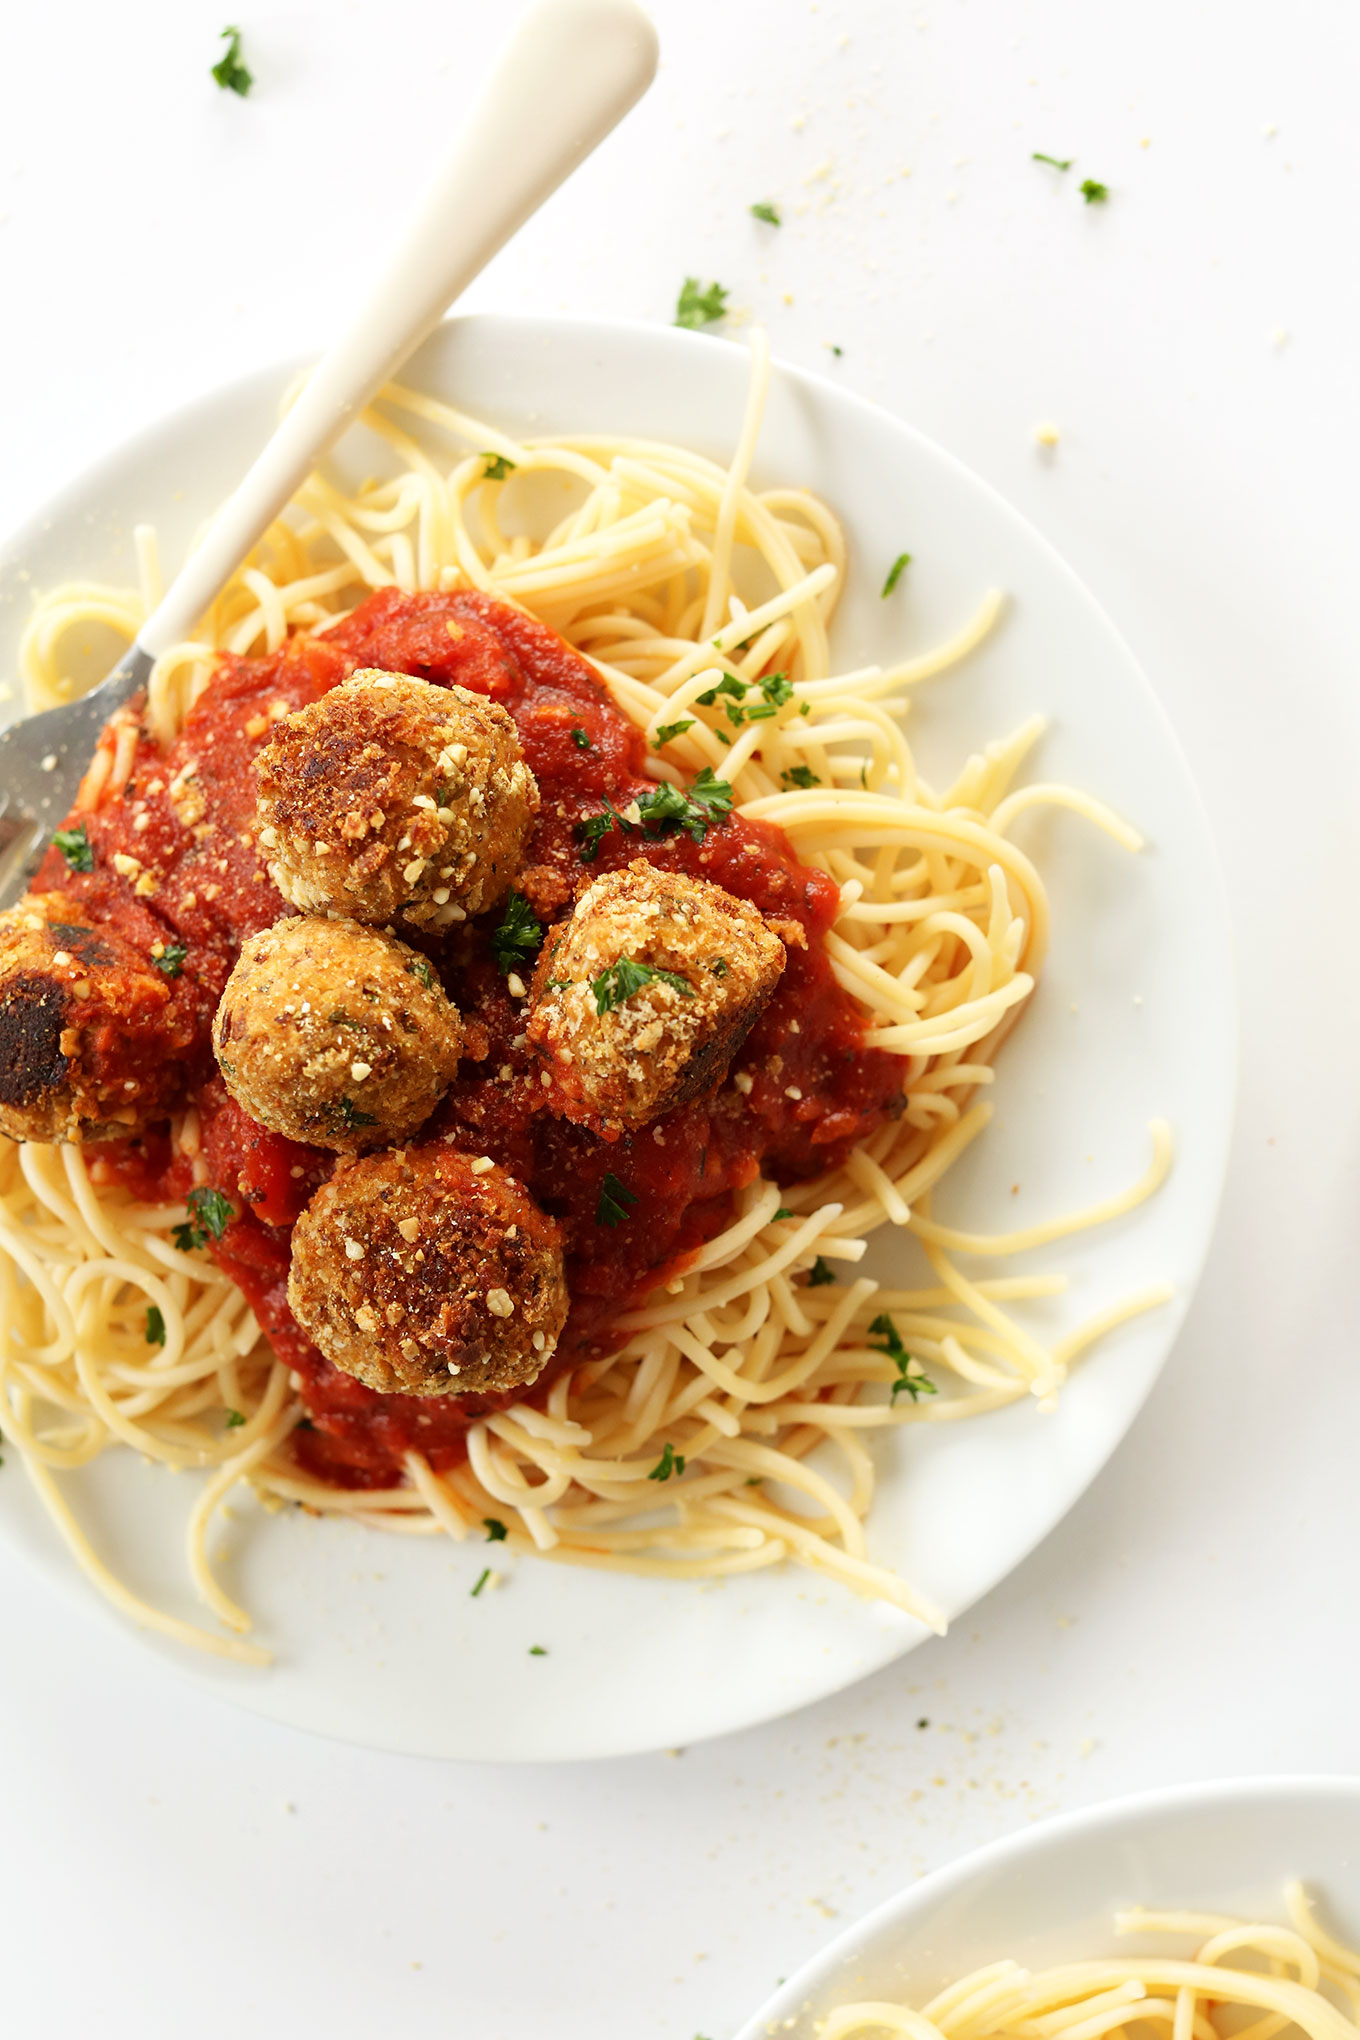meatballs: (214, 967, 562, 1378), (244, 722, 527, 923), (483, 892, 762, 1094)
plain spaghetti: (665, 1257, 827, 1563)
